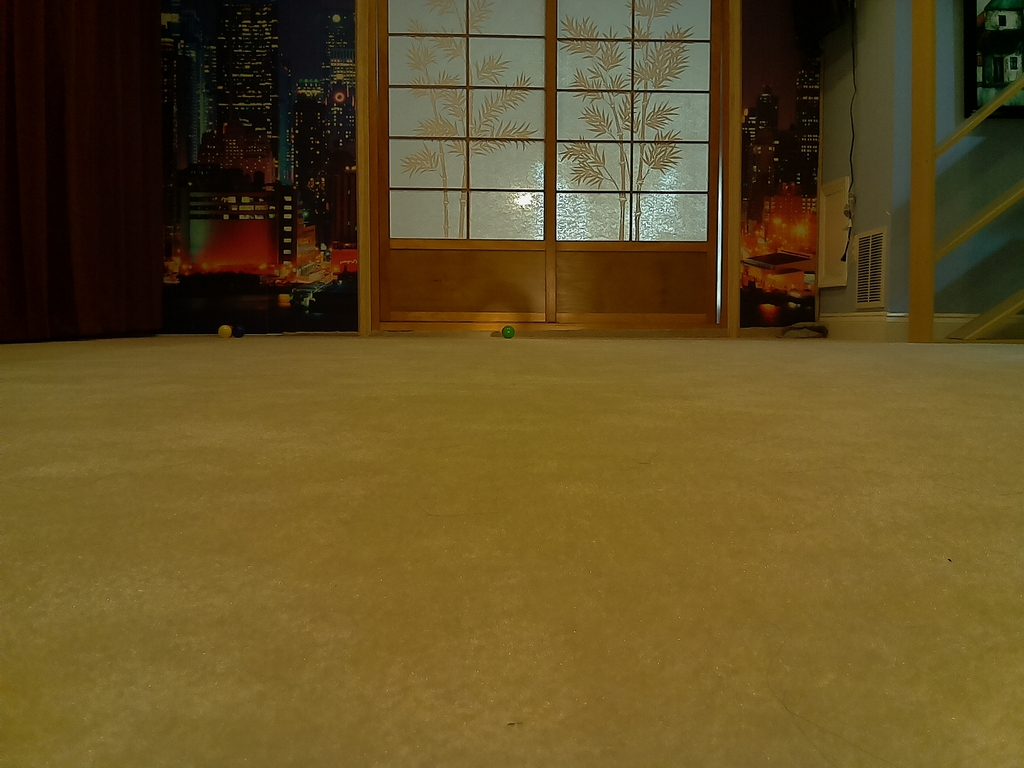ball: (218, 326, 230, 337)
